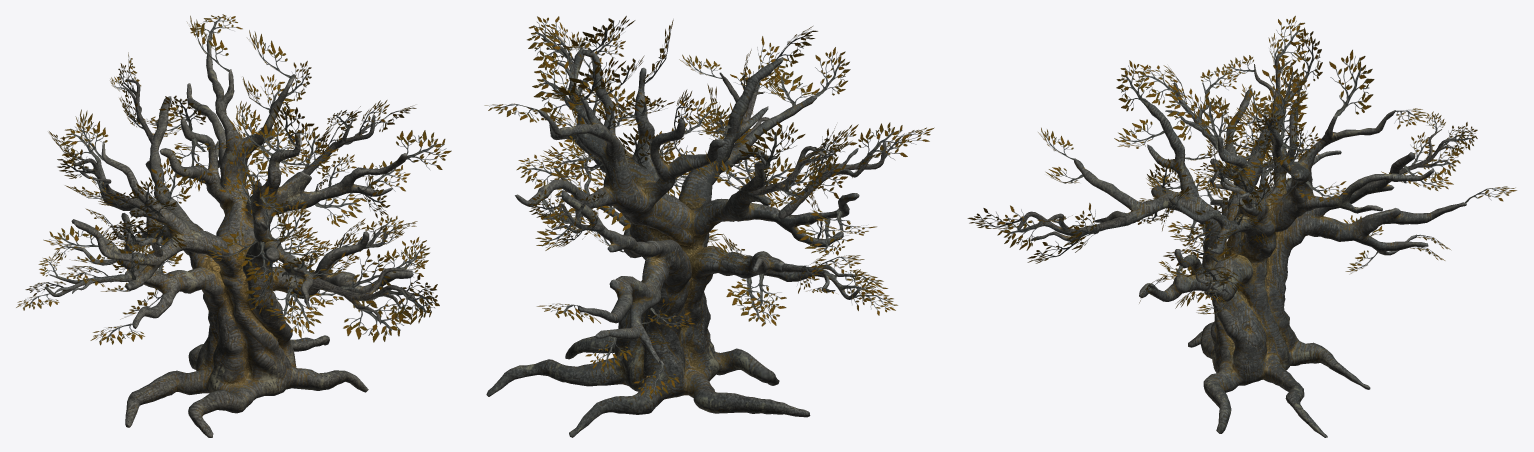
The model's file is ancient-tree.glb.
3 renders of one model, left to right at view 1: azimuth 30°, elevation 25°; view 2: azimuth 150°, elevation 25°; view 3: azimuth 270°, elevation 25°, orthographic. The views are drawn at different scales.
Parts seen in each view (by area): view 1: ancientTREE, leaves, leaves_2, branch_3, leaves_4, leaves_6, leaves_8, leaves_3, leaves_7, branch_12, leaves_5, branch_19 (+3 smaller); view 2: ancientTREE, leaves, leaves_8, leaves_4, leaves_3, leaves_6, leaves_2, branch_10, leaves_7, leaves_5, branch_7, branch_12 (+3 smaller); view 3: ancientTREE, leaves, leaves_4, leaves_2, leaves_6, leaves_5, branch_3, leaves_8, leaves_7, branch_10.
Boxes of the visible parts, box(x1,y1,x2,y2) form: ancientTREE: box(71, 36, 413, 437); leaves: box(43, 14, 451, 345); leaves_2: box(340, 237, 439, 342); branch_3: box(311, 267, 414, 324); leaves_4: box(85, 208, 186, 254); leaves_6: box(48, 131, 134, 206); leaves_8: box(314, 100, 416, 161); leaves_3: box(16, 256, 108, 310); leaves_7: box(333, 215, 417, 259); branch_12: box(73, 158, 153, 212); leaves_5: box(110, 52, 144, 129); branch_19: box(302, 115, 377, 175); ancientTREE: box(486, 47, 859, 437); leaves: box(484, 16, 887, 399); leaves_8: box(527, 16, 625, 121); leaves_4: box(805, 122, 934, 198); leaves_3: box(798, 255, 897, 315); leaves_6: box(768, 124, 852, 207); leaves_2: box(679, 36, 790, 151); branch_10: box(778, 142, 886, 219); leaves_7: box(516, 148, 611, 211); leaves_5: box(527, 189, 608, 246); branch_7: box(782, 263, 864, 299); branch_12: box(752, 146, 832, 195); ancientTREE: box(1074, 73, 1466, 437); leaves: box(1038, 27, 1516, 314); leaves_4: box(1134, 64, 1237, 140); leaves_2: box(967, 203, 1100, 263); leaves_6: box(1221, 15, 1308, 119); leaves_5: box(1411, 111, 1477, 182); branch_3: box(1017, 211, 1130, 241); leaves_8: box(1189, 135, 1262, 211); leaves_7: box(1176, 255, 1245, 303); branch_10: box(1165, 82, 1232, 166).
Bounding box in the file's own units: 1292 × 1150 × 1702.
2 materials, 2 textured.
